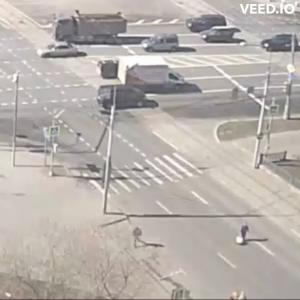car: (53, 12, 132, 48), (122, 54, 192, 94), (95, 84, 154, 112), (205, 27, 250, 47), (38, 43, 85, 62), (140, 33, 184, 52), (187, 16, 227, 36), (262, 34, 300, 53)
